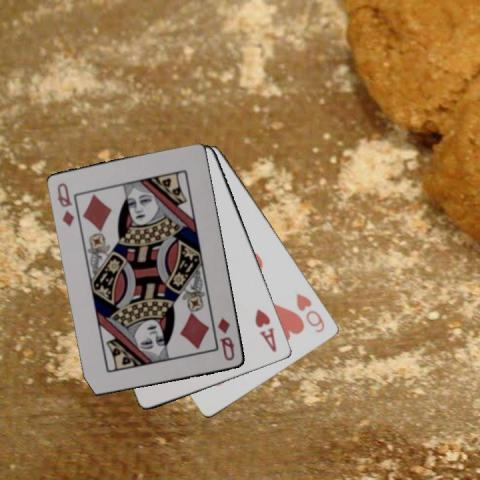6h: (293, 290, 327, 335)
Ah: (252, 306, 279, 354)
Qd: (214, 315, 236, 363), (54, 180, 76, 228)
